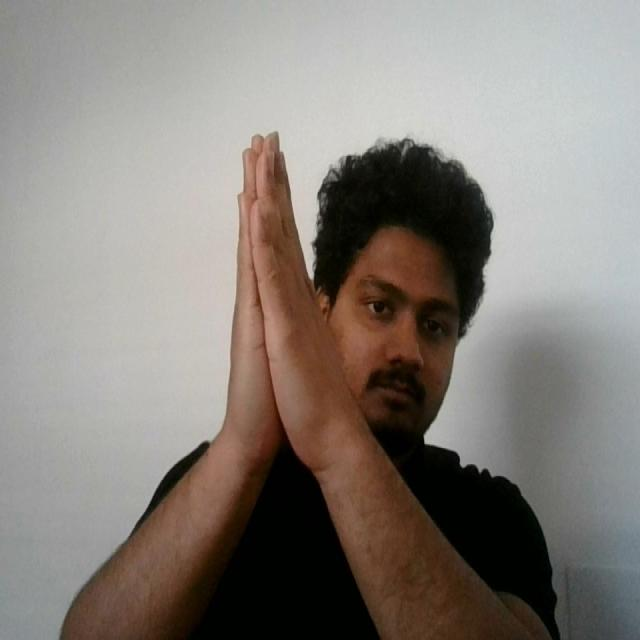Thanks: (216, 118, 357, 485)
